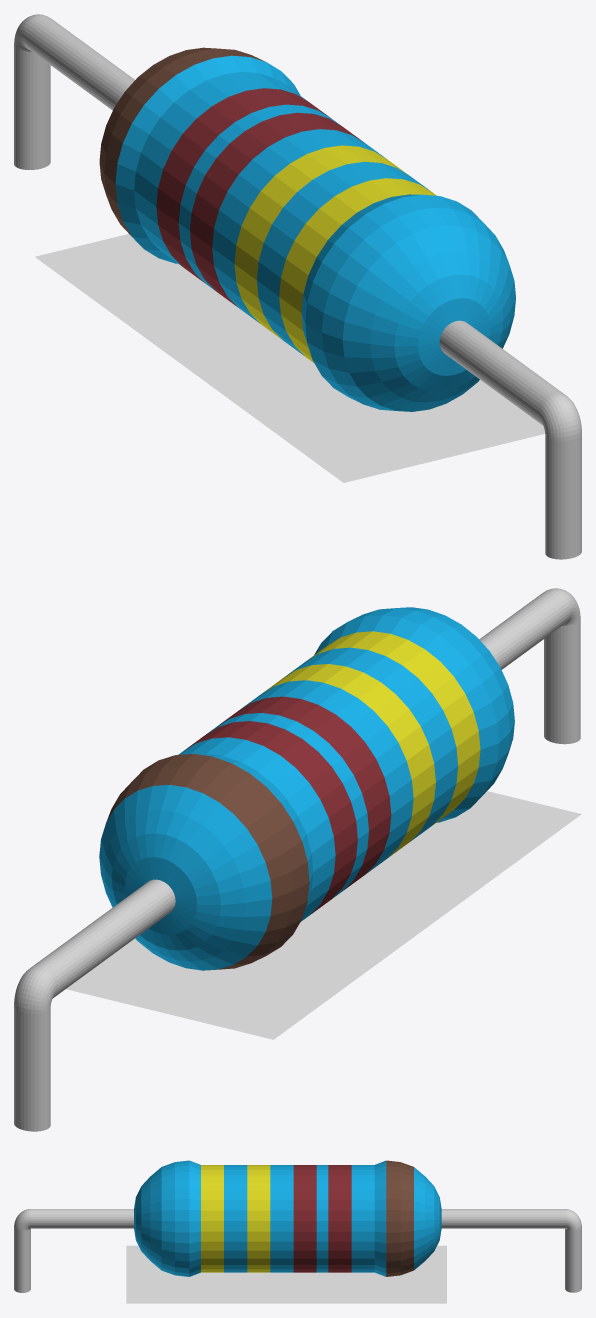
3 renders of one model, top to bottom at view 1: azimuth 30°, elevation 25°; view 2: azimuth 150°, elevation 25°; view 3: azimuth 270°, elevation 25°, orthographic. The views are drawn at different scales.
Parts seen in each view (by area): view 1: R_9, R_9_plane; view 2: R_9, R_9_plane; view 3: R_9, R_9_plane.
Boxes of the visible parts, box(x1,y1,x2,y2) form: R_9: box(14, 14, 581, 559); R_9_plane: box(35, 234, 544, 482); R_9: box(14, 588, 580, 1131); R_9_plane: box(66, 791, 581, 1039); R_9: box(14, 1160, 581, 1292); R_9_plane: box(126, 1245, 446, 1303).
Bounding box in the file's own units: 0.0161 × 0.0159 × 0.0664.
